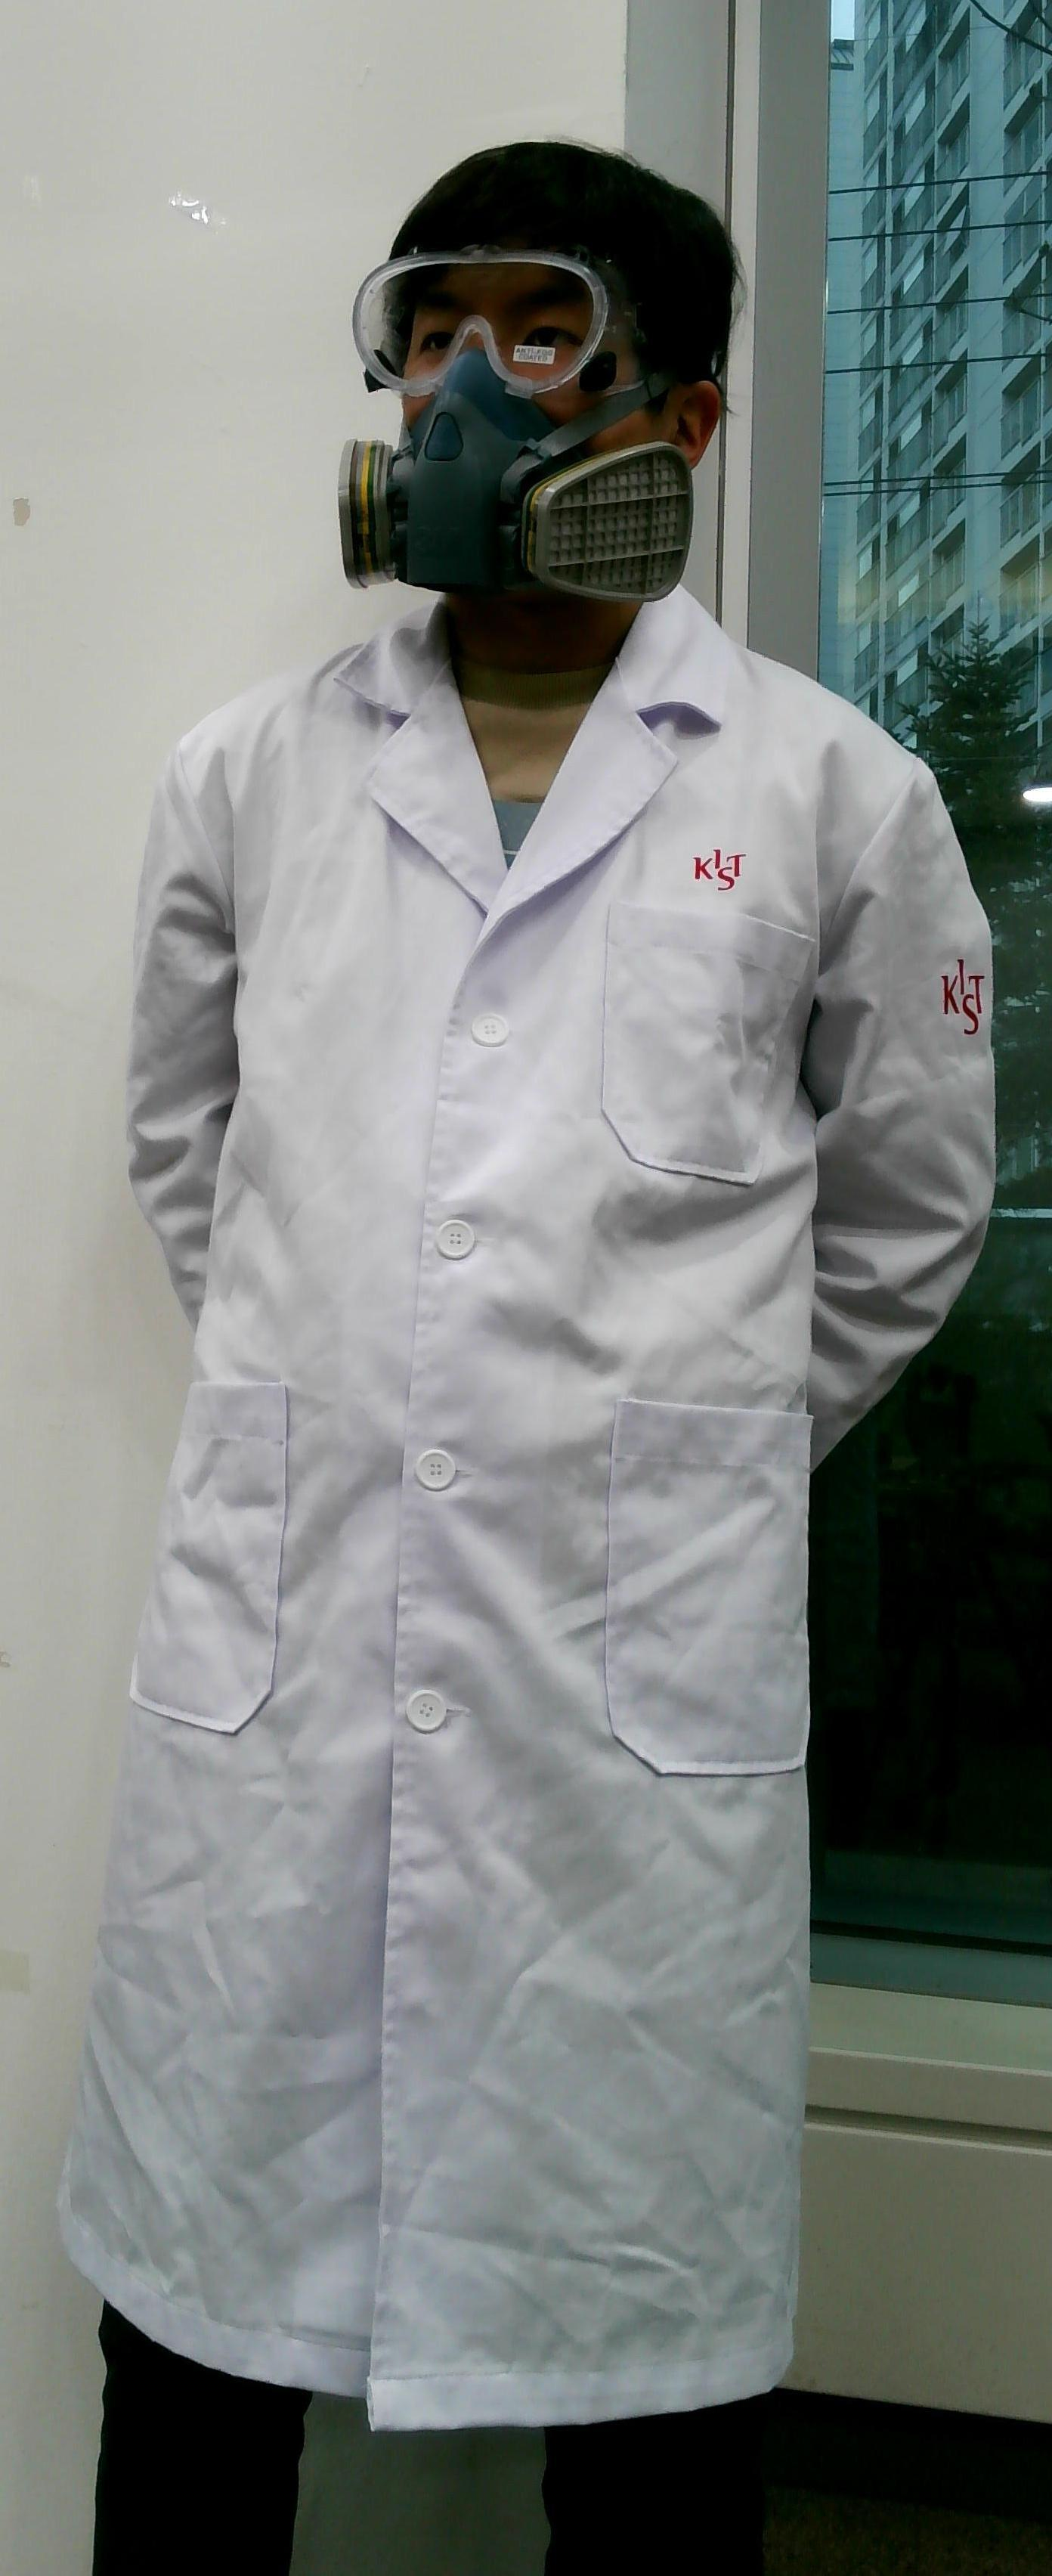lab_coat: (16, 667, 980, 2371)
